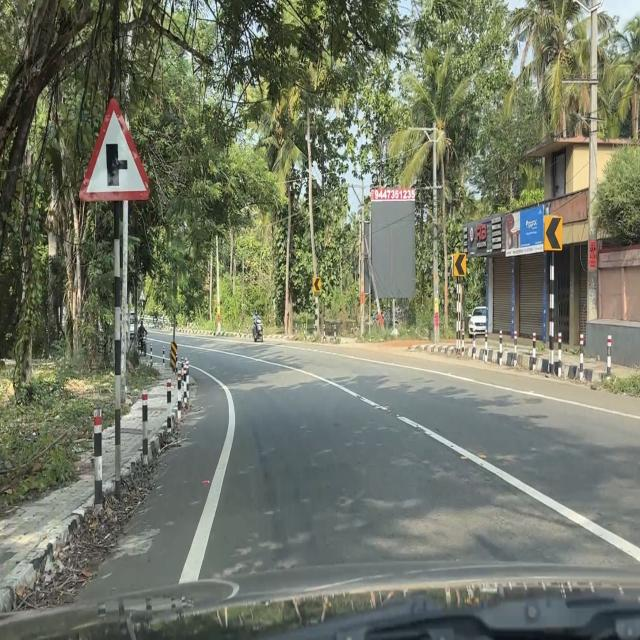SIDE_ROAD_RIGHT: (78, 95, 154, 204)
TURN_LEFT: (543, 216, 563, 252), (454, 252, 466, 278), (313, 277, 321, 292)
